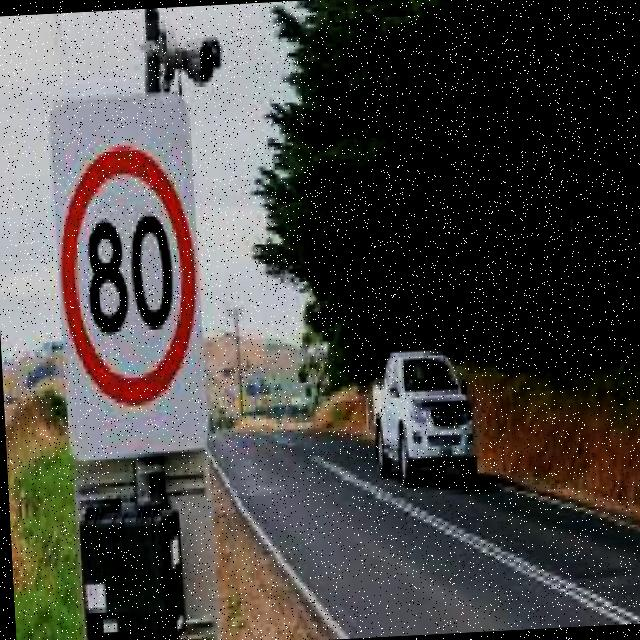Ograniczenie predkosci do 80: (54, 143, 203, 410)
